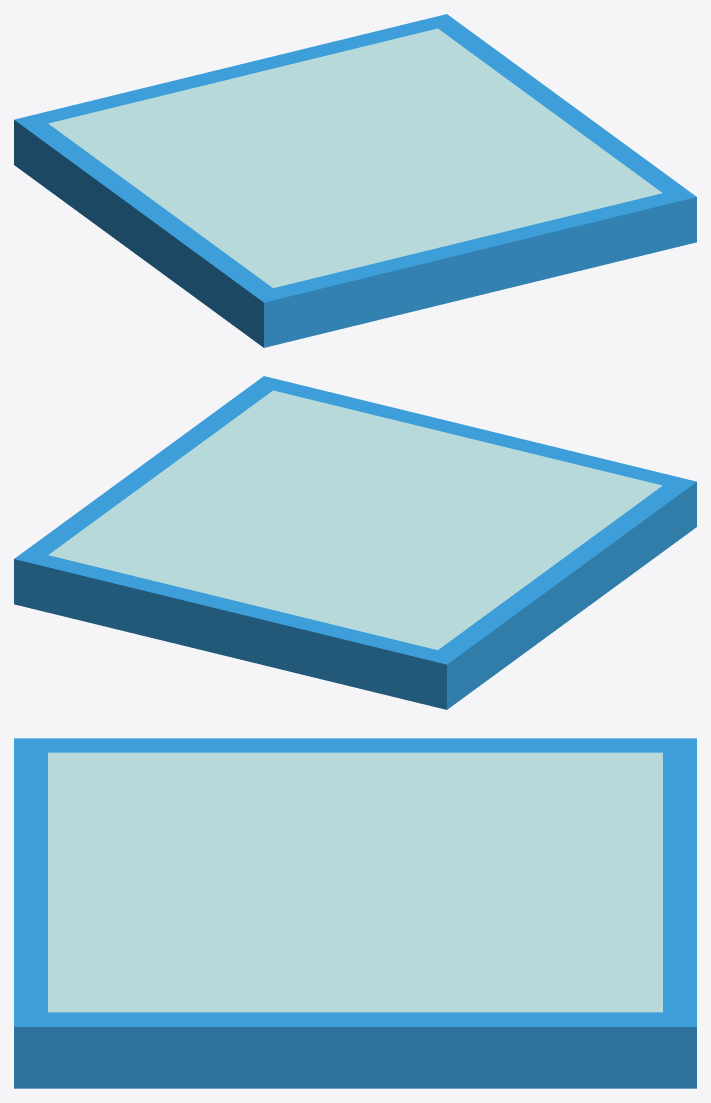
Rendered from Ground.fbx.
3 views of the same model, one above another, from view 1: azimuth 30°, elevation 25°; view 2: azimuth 150°, elevation 25°; view 3: azimuth 270°, elevation 25° (orthographic). The views are drawn at different scales.
Visible parts, largest first — view 1: Ground; view 2: Ground; view 3: Ground.
Part boxes in pixels (box(x1,y1,x2,y2)): Ground: box(14, 14, 696, 347); Ground: box(14, 376, 696, 709); Ground: box(14, 738, 696, 1088).
Size of the model in its own units: 640 by 64 by 640.
